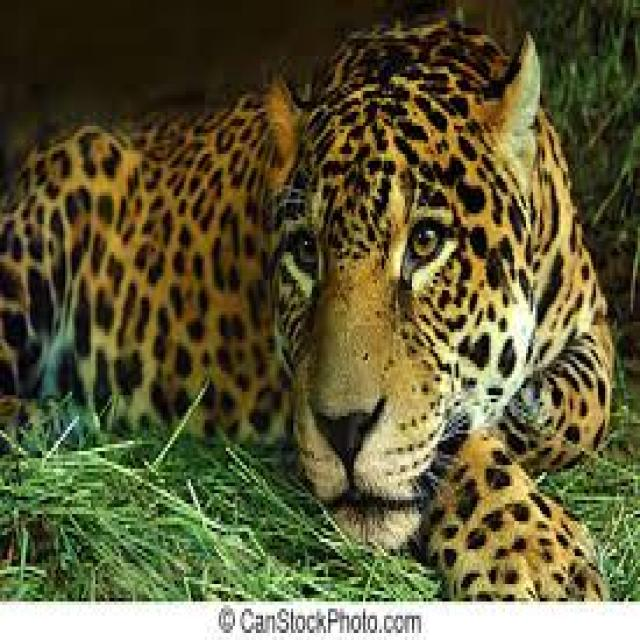Jaguar: (7, 39, 617, 602)
